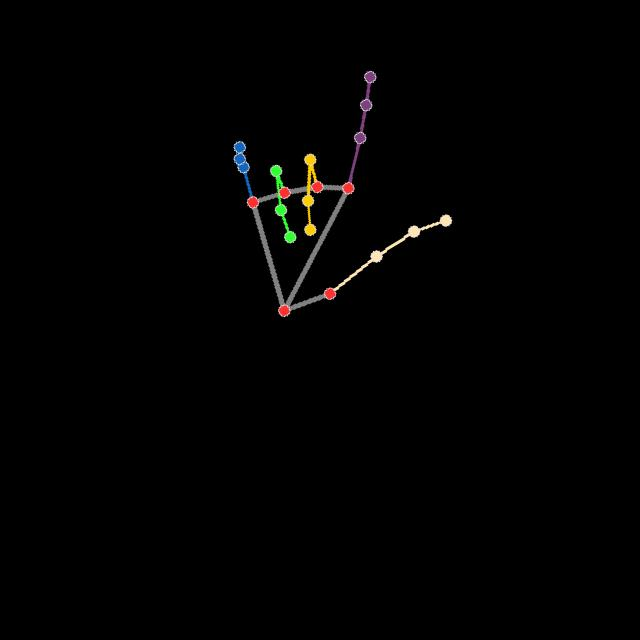spiderman: (227, 61, 454, 317)
